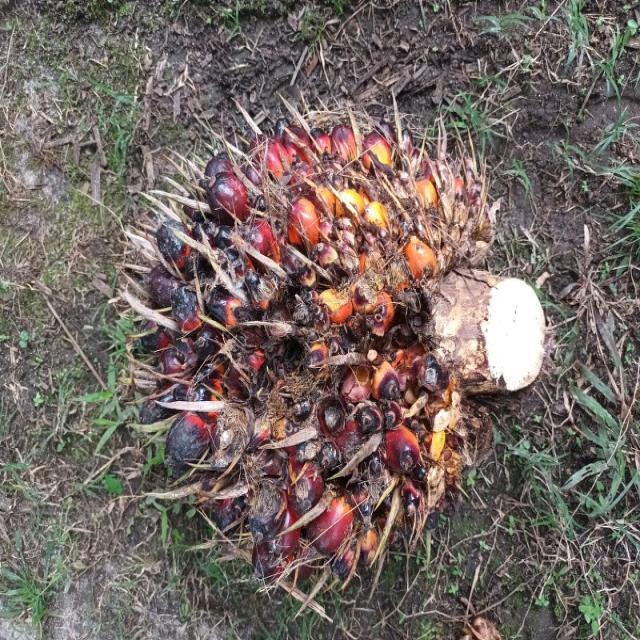fraksi 1: (27, 115, 480, 640)
